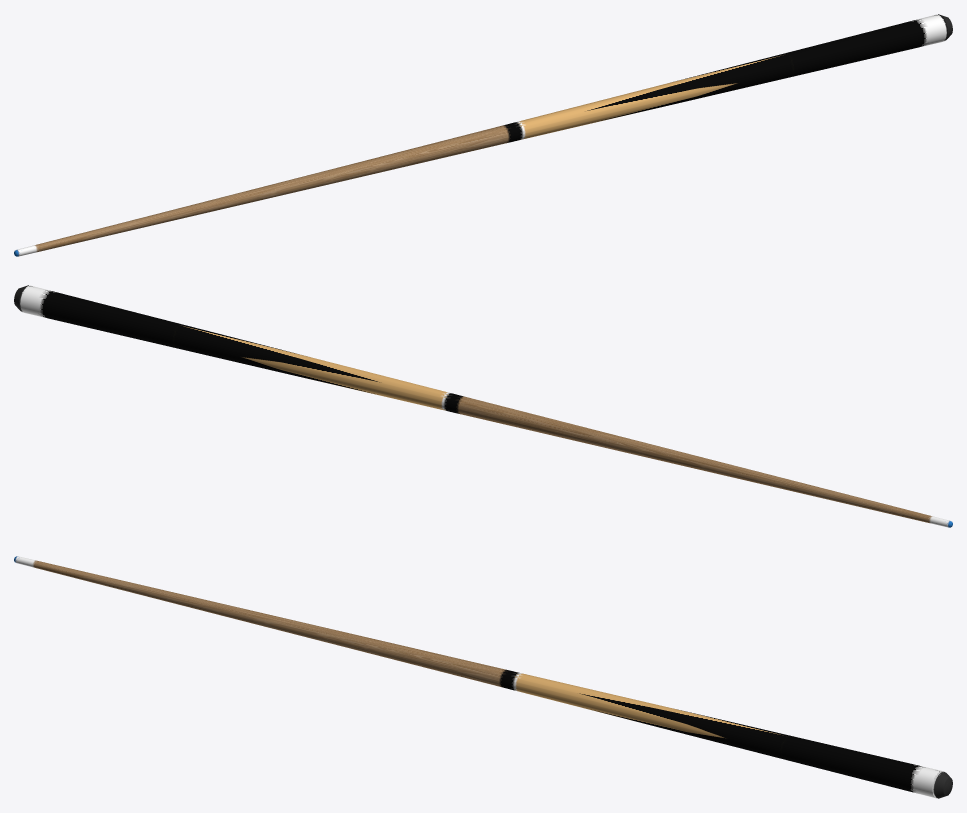
File: PoolCue.obj
3 views of the same model, one above another, from view 1: azimuth 30°, elevation 25°; view 2: azimuth 150°, elevation 25°; view 3: azimuth 330°, elevation 25° (orthographic).
Parts seen in each view (by area): view 1: PoolCue; view 2: PoolCue; view 3: PoolCue.
Boxes of the visible parts, <box> form: PoolCue: <box>14,14,952,256</box>; PoolCue: <box>14,285,952,527</box>; PoolCue: <box>14,556,952,798</box>.
Size of the model in its own units: 13.67 by 0.3567 by 0.3567.
